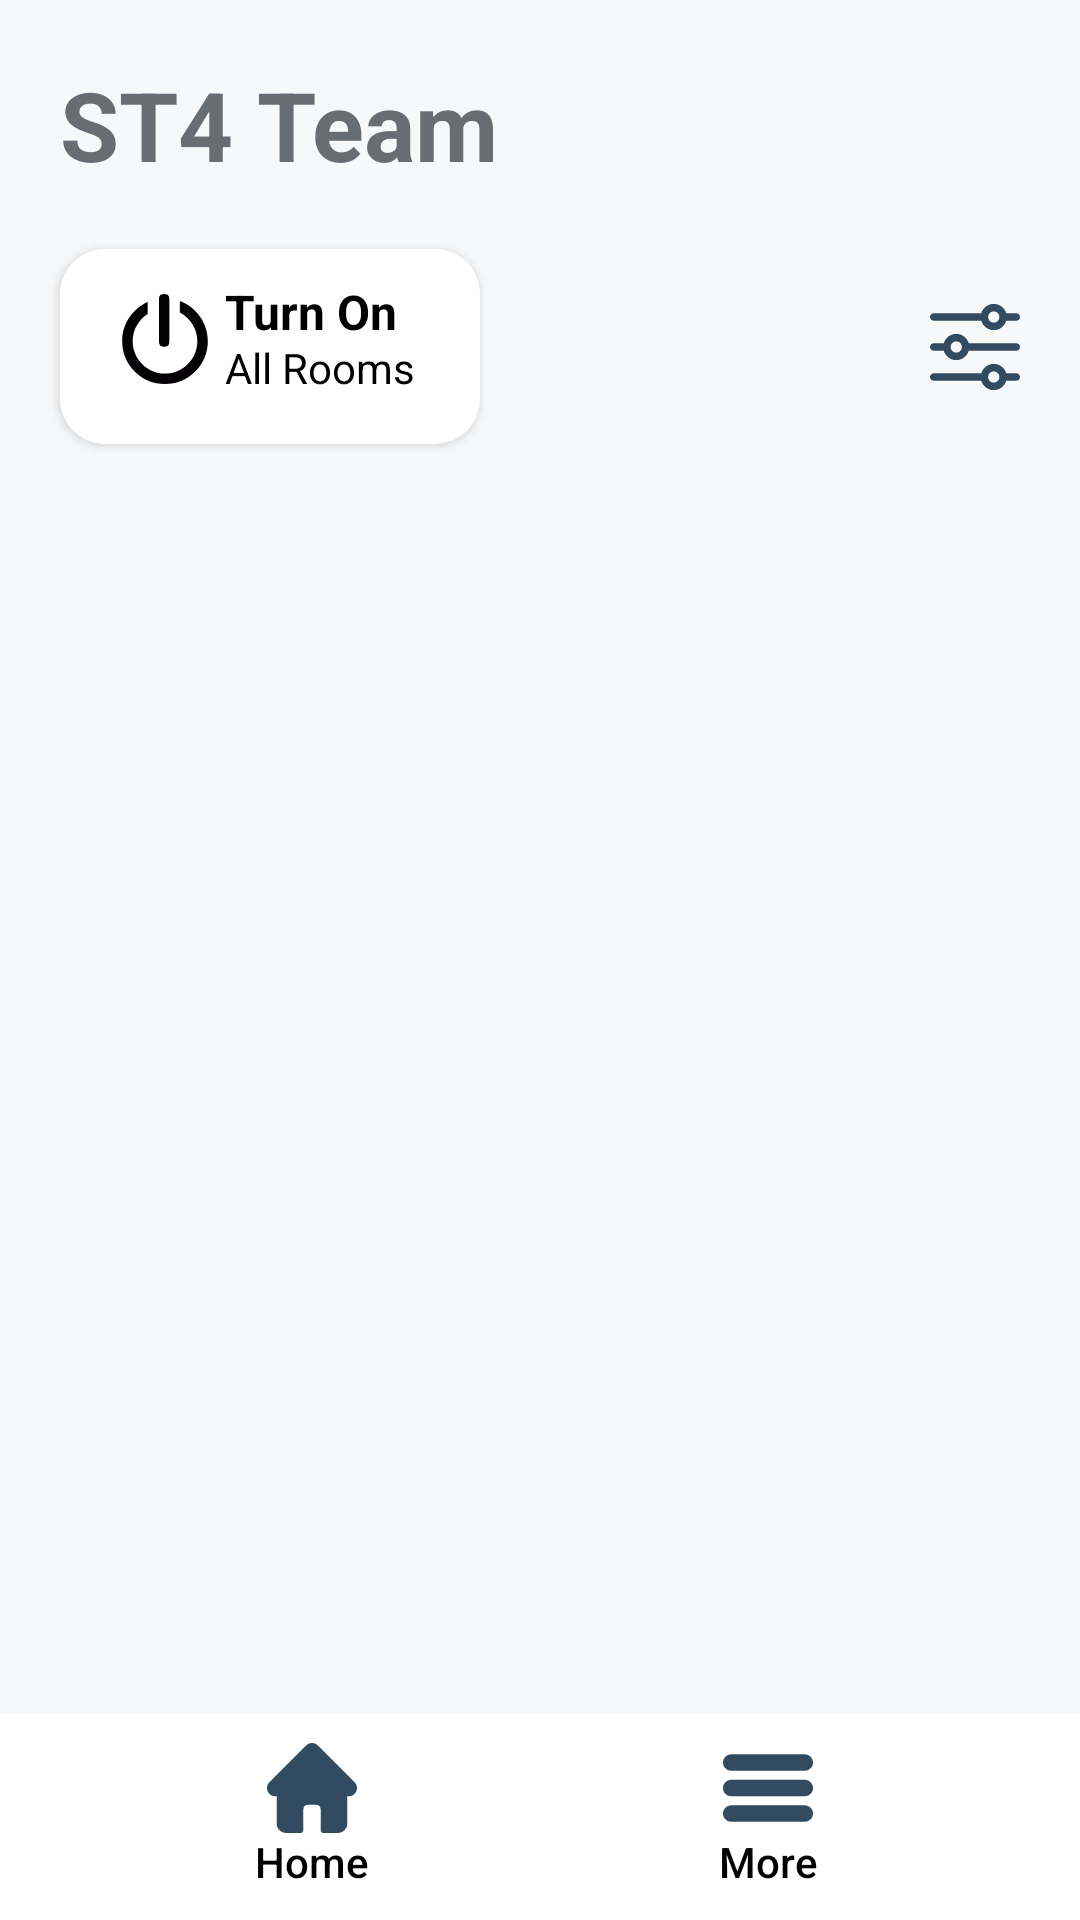

Icon bounding boxes for this 1080w x 1920h phone screenshot, format box=[x1, y1, x2, y2]:
power: box=[122, 294, 208, 384]
settings: box=[930, 304, 1020, 390]
